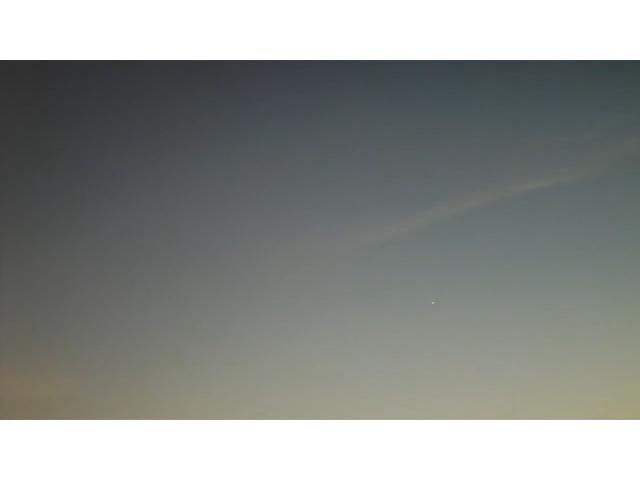Anti-Drone: (426, 298, 440, 308)
